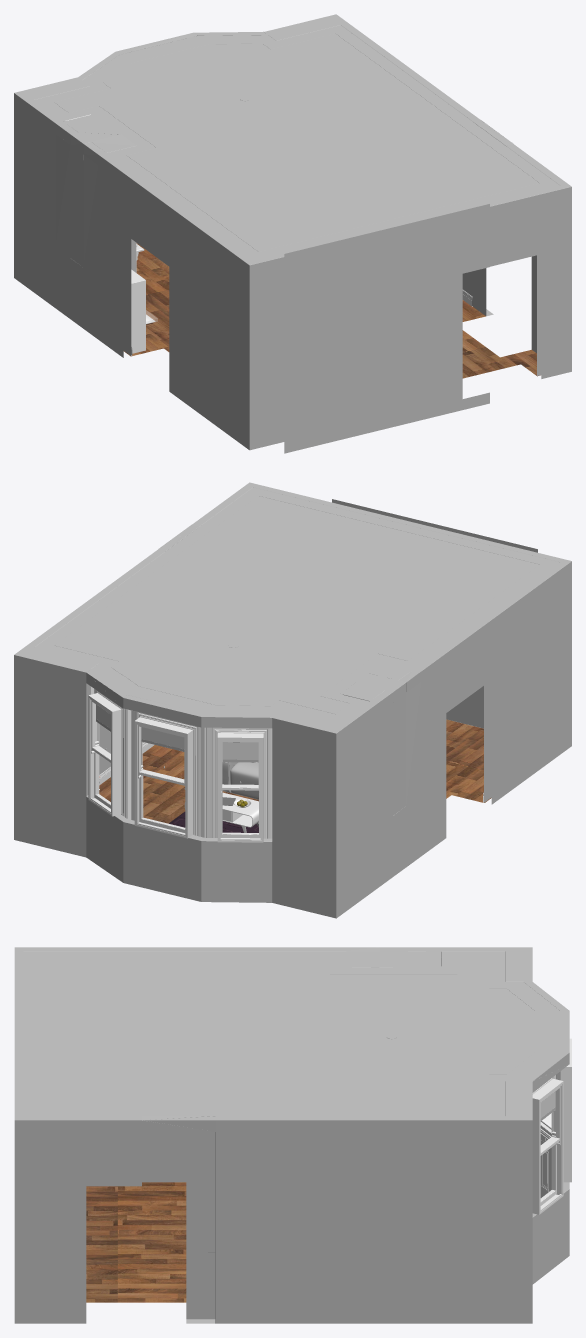
The model's file is big_house_lr2.glb.
3 views of the same model, one above another, from view 1: azimuth 30°, elevation 25°; view 2: azimuth 150°, elevation 25°; view 3: azimuth 270°, elevation 25° (orthographic). The views are drawn at different scales.
Parts seen in each view (by area): view 1: 121_Walls, 125_Walls, 01_Walls, 122_Floor, 70_WhitePaint; view 2: 125_Walls, 121_Walls, 122_Floor, 129_WhitePaint, 131_WhitePaint, 126_WhitePaint, 130_WhitePaint, 127_WhitePaint, 128_WhitePaint, 01_Walls, 139_SofaLeather, 73_Table (+2 smaller); view 3: 125_Walls, 121_Walls, 122_Floor, 126_WhitePaint, 130_WhitePaint, 127_WhitePaint.
Part boxes in pixels (x1,y1,x2,y2): 121_Walls: (34,25,559,260); 125_Walls: (14,14,571,450); 01_Walls: (284,204,489,453); 122_Floor: (124,243,540,378); 70_WhitePaint: (131,269,145,353); 125_Walls: (14,482,571,918); 121_Walls: (34,487,559,722); 122_Floor: (99,719,491,823); 129_WhitePaint: (205,727,272,838); 131_WhitePaint: (131,710,205,837); 126_WhitePaint: (88,693,122,816); 130_WhitePaint: (134,717,193,838); 127_WhitePaint: (91,686,131,819); 128_WhitePaint: (217,732,263,842); 01_Walls: (332,499,537,552); 139_SofaLeather: (230,762,258,799); 73_Table: (184,792,258,827); 125_Walls: (14,947,569,1323); 121_Walls: (23,951,560,1116); 122_Floor: (86,1182,186,1302); 126_WhitePaint: (532,1078,563,1214); 130_WhitePaint: (560,1038,571,1182); 127_WhitePaint: (532,1071,560,1205).
Bounding box in the file's own units: 5.73 × 3.39 × 7.81.
Materials: 44 (13 with a texture image).
